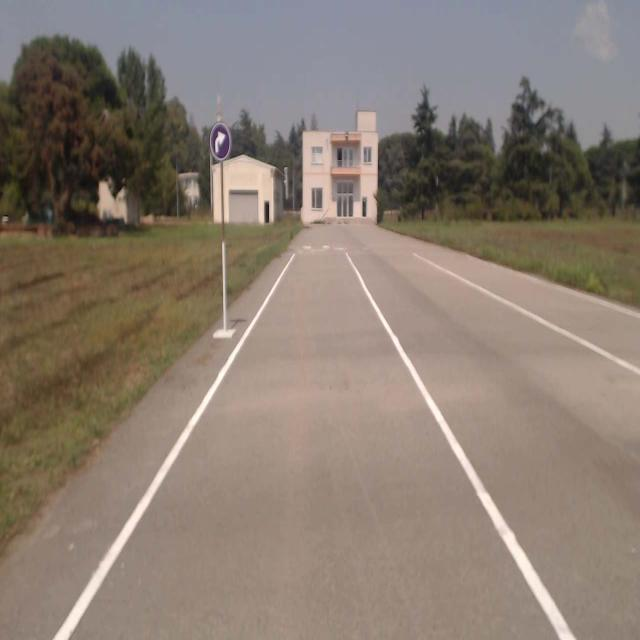sag: (210, 122, 230, 158)
